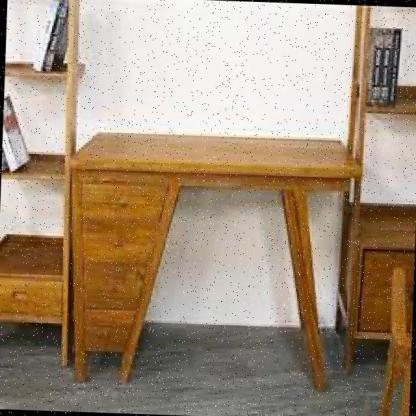Table: (53, 105, 362, 390)
